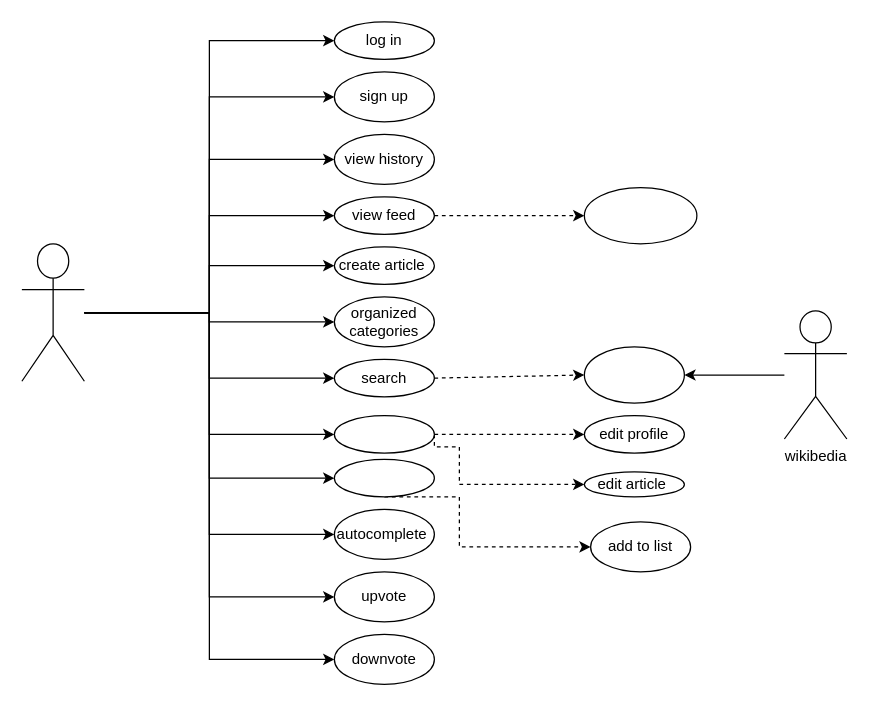
Image size: 869x706. Some labels were removed from this diagram. Here are the shapes that lost their labels. From the top down, the box of each, then its label:
(583, 186, 697, 244): recommend article
(21, 242, 84, 381): Actor
(583, 346, 684, 403): search in wikibedia
(333, 414, 434, 453): edit
(333, 458, 434, 497): bookmark
